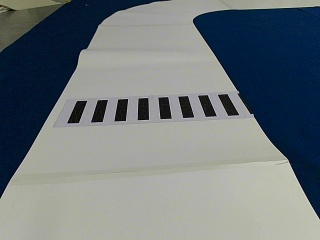crosswalk: (64, 95, 243, 124)
